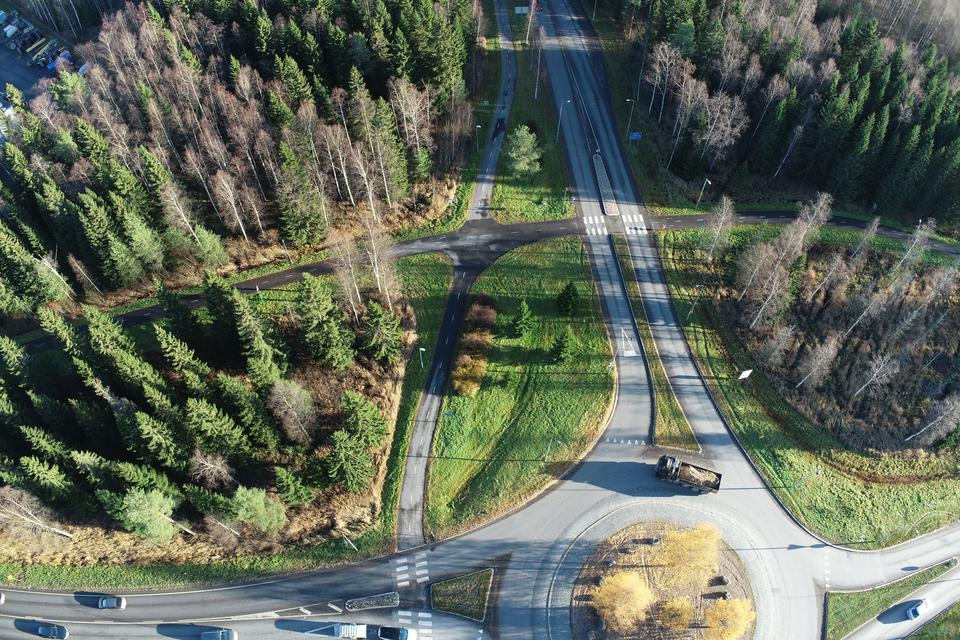intersection: (557, 187, 701, 263), (381, 534, 450, 640)
roundabout: (457, 401, 889, 640)
